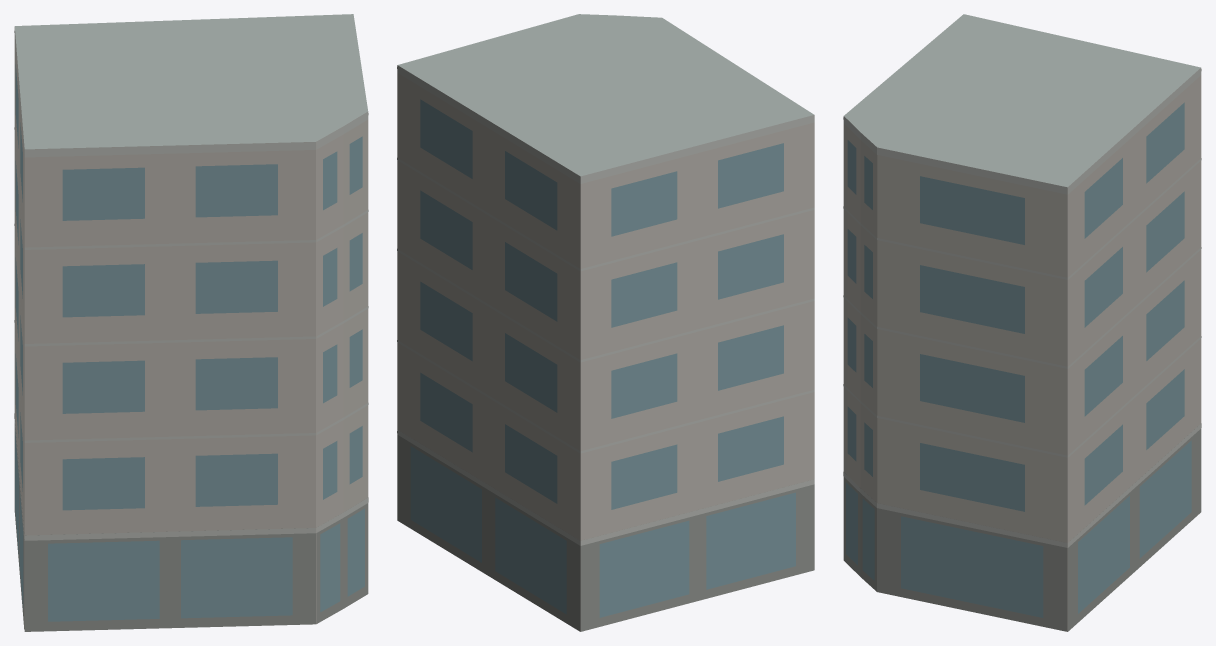
Rendered from survey-upis-32733044.glb.
The picture shows the model from 3 angles, left to right: view 1: azimuth 30°, elevation 25°; view 2: azimuth 150°, elevation 25°; view 3: azimuth 270°, elevation 25°; orthographic projection. The views are drawn at different scales.
Parts seen in each view (by area): view 1: survey-upis-32733044.tmp; view 2: survey-upis-32733044.tmp; view 3: survey-upis-32733044.tmp.
Boxes of the visible parts, box(x1,y1,x2,y2) form: survey-upis-32733044.tmp: box(14, 14, 368, 631); survey-upis-32733044.tmp: box(397, 14, 814, 631); survey-upis-32733044.tmp: box(843, 14, 1201, 631).
Size of the model in its own units: 12.23 by 14.6 by 10.66.
